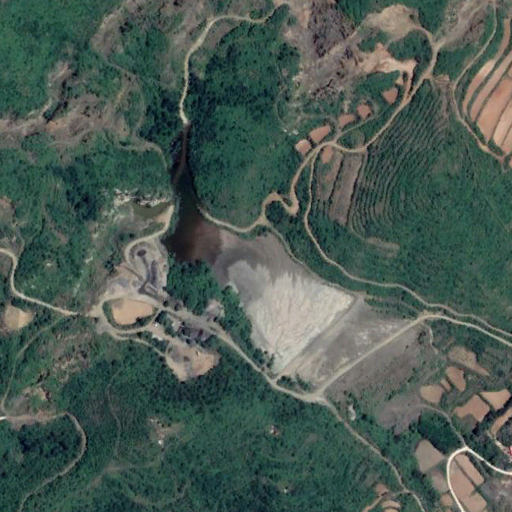tp: (167, 125, 433, 396)
